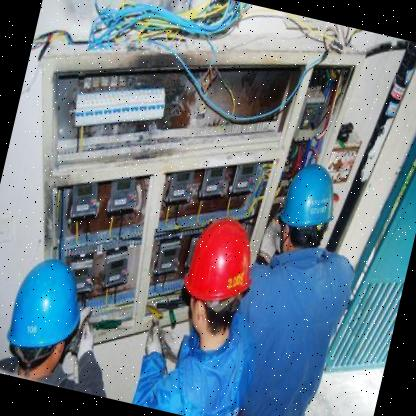capacete: (166, 209, 268, 355), (0, 240, 99, 387), (270, 152, 352, 266)
